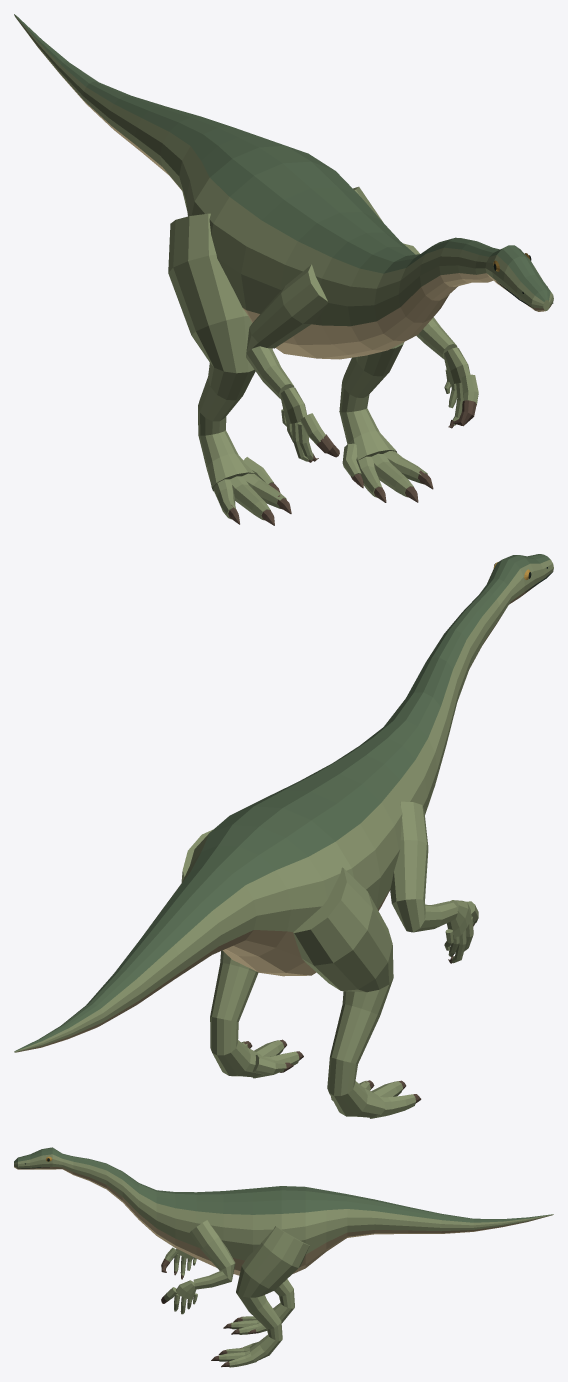
The picture shows the model from 3 angles, top to bottom: view 1: azimuth 30°, elevation 25°; view 2: azimuth 150°, elevation 25°; view 3: azimuth 270°, elevation 25°; orthographic projection. The views are drawn at different scales.
Visible parts, largest first — view 1: AxialBody_HeadNeckTrunkTail, Hindlimbs_DigitigradeFeet, Forelimbs_InwardGraspingHands, ManualAndPedalClaws; view 2: AxialBody_HeadNeckTrunkTail, Hindlimbs_DigitigradeFeet, Forelimbs_InwardGraspingHands; view 3: AxialBody_HeadNeckTrunkTail, Hindlimbs_DigitigradeFeet, Forelimbs_InwardGraspingHands, ManualAndPedalClaws.
Boxes of the visible parts, <box> form: AxialBody_HeadNeckTrunkTail: <box>14,14,553,359</box>; Hindlimbs_DigitigradeFeet: <box>168,186,427,520</box>; Forelimbs_InwardGraspingHands: <box>246,243,478,461</box>; ManualAndPedalClaws: <box>228,400,476,525</box>; AxialBody_HeadNeckTrunkTail: <box>14,554,553,1052</box>; Hindlimbs_DigitigradeFeet: <box>181,829,415,1118</box>; Forelimbs_InwardGraspingHands: <box>390,801,478,963</box>; AxialBody_HeadNeckTrunkTail: <box>14,1147,553,1275</box>; Hindlimbs_DigitigradeFeet: <box>219,1226,309,1367</box>; Forelimbs_InwardGraspingHands: <box>164,1220,235,1314</box>; ManualAndPedalClaws: <box>161,1259,258,1367</box>.
Size of the model in its own units: 1.47 by 2.82 by 7.
